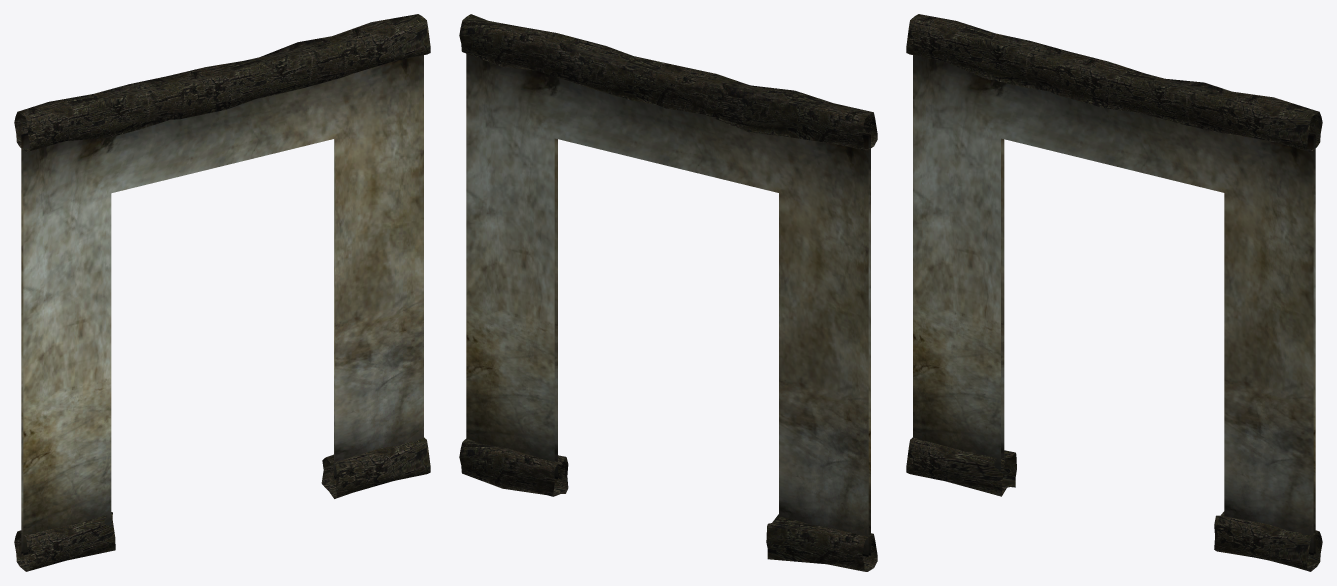
The model's file is door_way02.DAE.
3 views of the same model, side by side, from view 1: azimuth 30°, elevation 25°; view 2: azimuth 150°, elevation 25°; view 3: azimuth 330°, elevation 25° (orthographic).
Visible parts, largest first — view 1: Box003, Object004; view 2: Box003, Object004; view 3: Box003, Object004.
Boxes of the visible parts, left/top/right/bottom form: Box003: left=21, top=55, right=423, bottom=555; Object004: left=14, top=14, right=430, bottom=571; Box003: left=466, top=53, right=870, bottom=556; Object004: left=459, top=14, right=877, bottom=571; Box003: left=913, top=55, right=1315, bottom=555; Object004: left=906, top=14, right=1322, bottom=571.
Size of the model in its own units: 4.01 by 0.3718 by 4.39.
